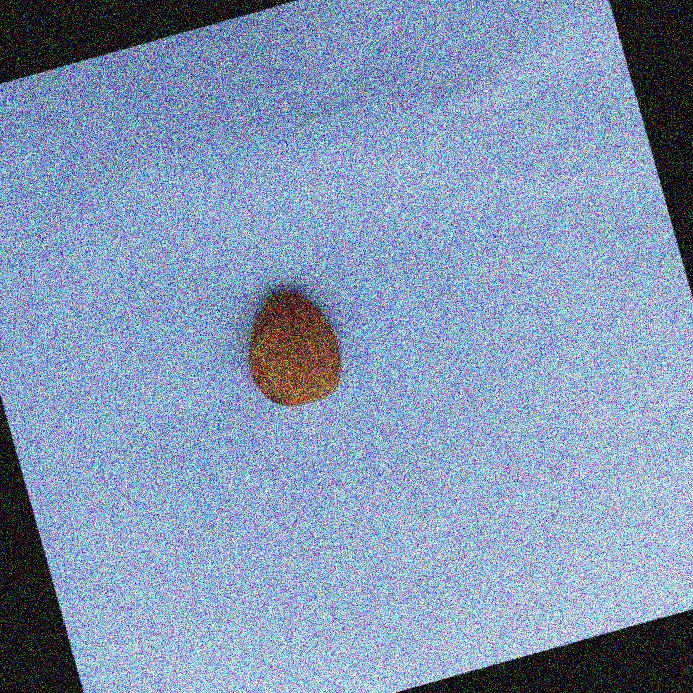grade1: (223, 269, 364, 426)
